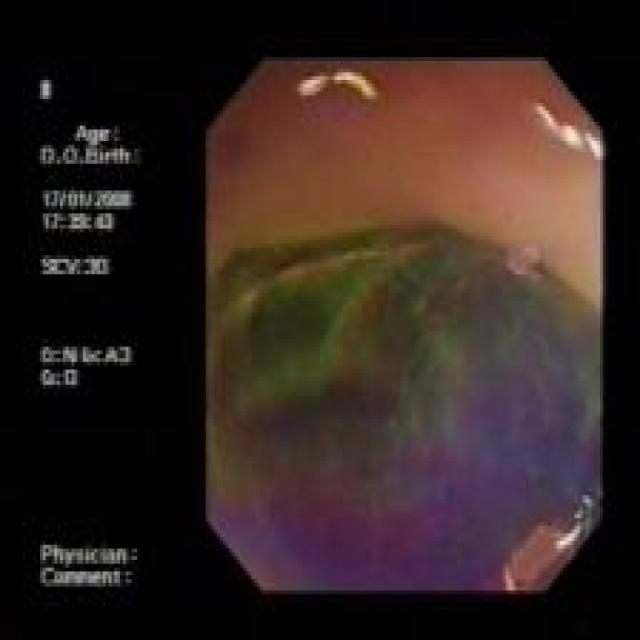color misalignment: (208, 222, 601, 589), (37, 77, 138, 586)
